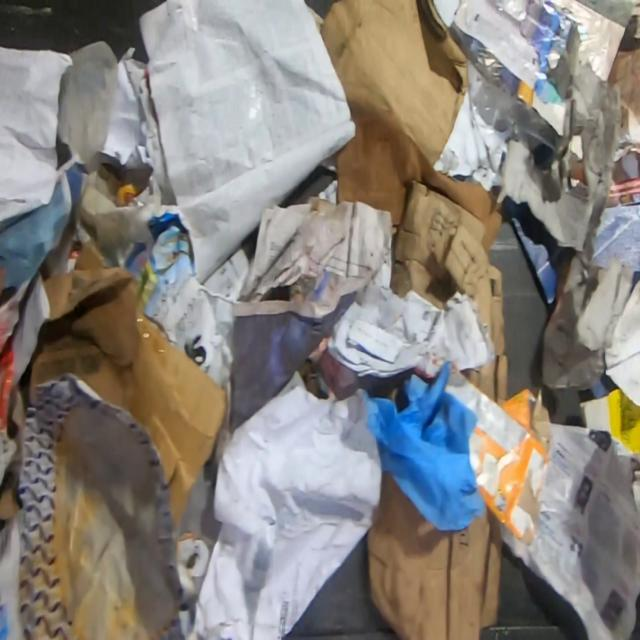cardboard: (28, 239, 226, 530), (319, 0, 503, 255), (389, 180, 508, 403), (365, 467, 503, 639), (447, 364, 552, 548), (580, 388, 639, 454)
